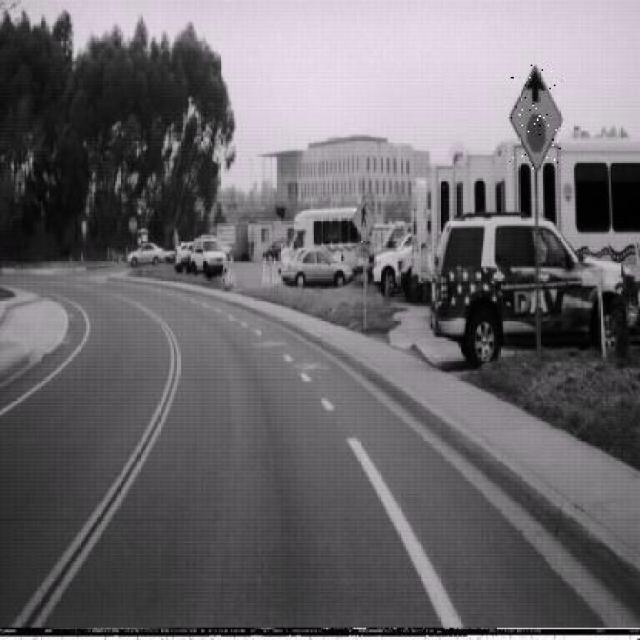pedestrianCrossing: (352, 195, 376, 243)
stopAhead: (509, 65, 563, 172)
